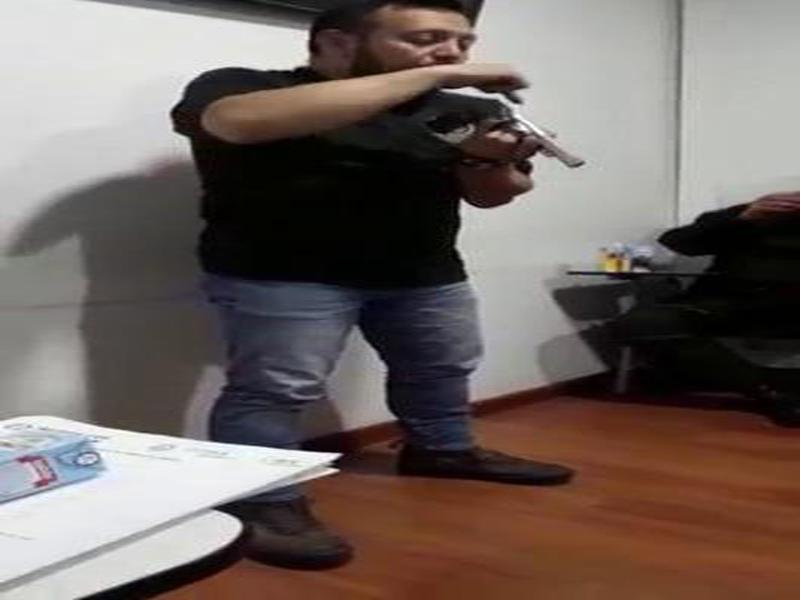Revolver: (463, 80, 602, 207)
